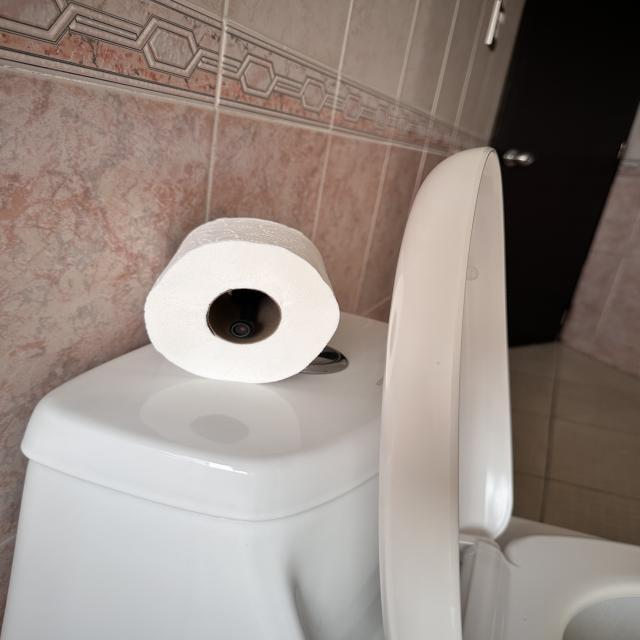hidden camera: (230, 321, 253, 340)
